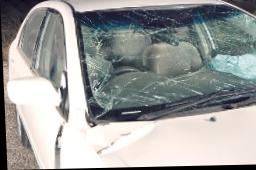Bonnet: (79, 120, 191, 168)
Windshield: (74, 9, 256, 108)
